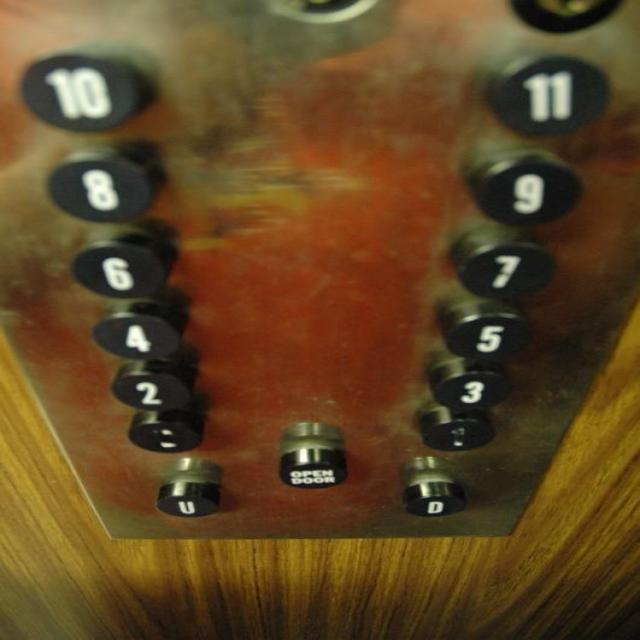10: (12, 44, 157, 135)
11: (480, 49, 614, 135)
2: (102, 360, 196, 412)
3: (423, 360, 506, 410)
4: (82, 301, 187, 360)
5: (433, 301, 530, 362)
6: (64, 232, 179, 298)
7: (447, 235, 556, 302)
8: (35, 148, 165, 224)
9: (459, 148, 581, 228)
D: (395, 477, 469, 520)
U: (147, 478, 229, 522)
blur: (410, 409, 501, 454), (122, 409, 205, 454)
text_open hold: (274, 443, 352, 493)
